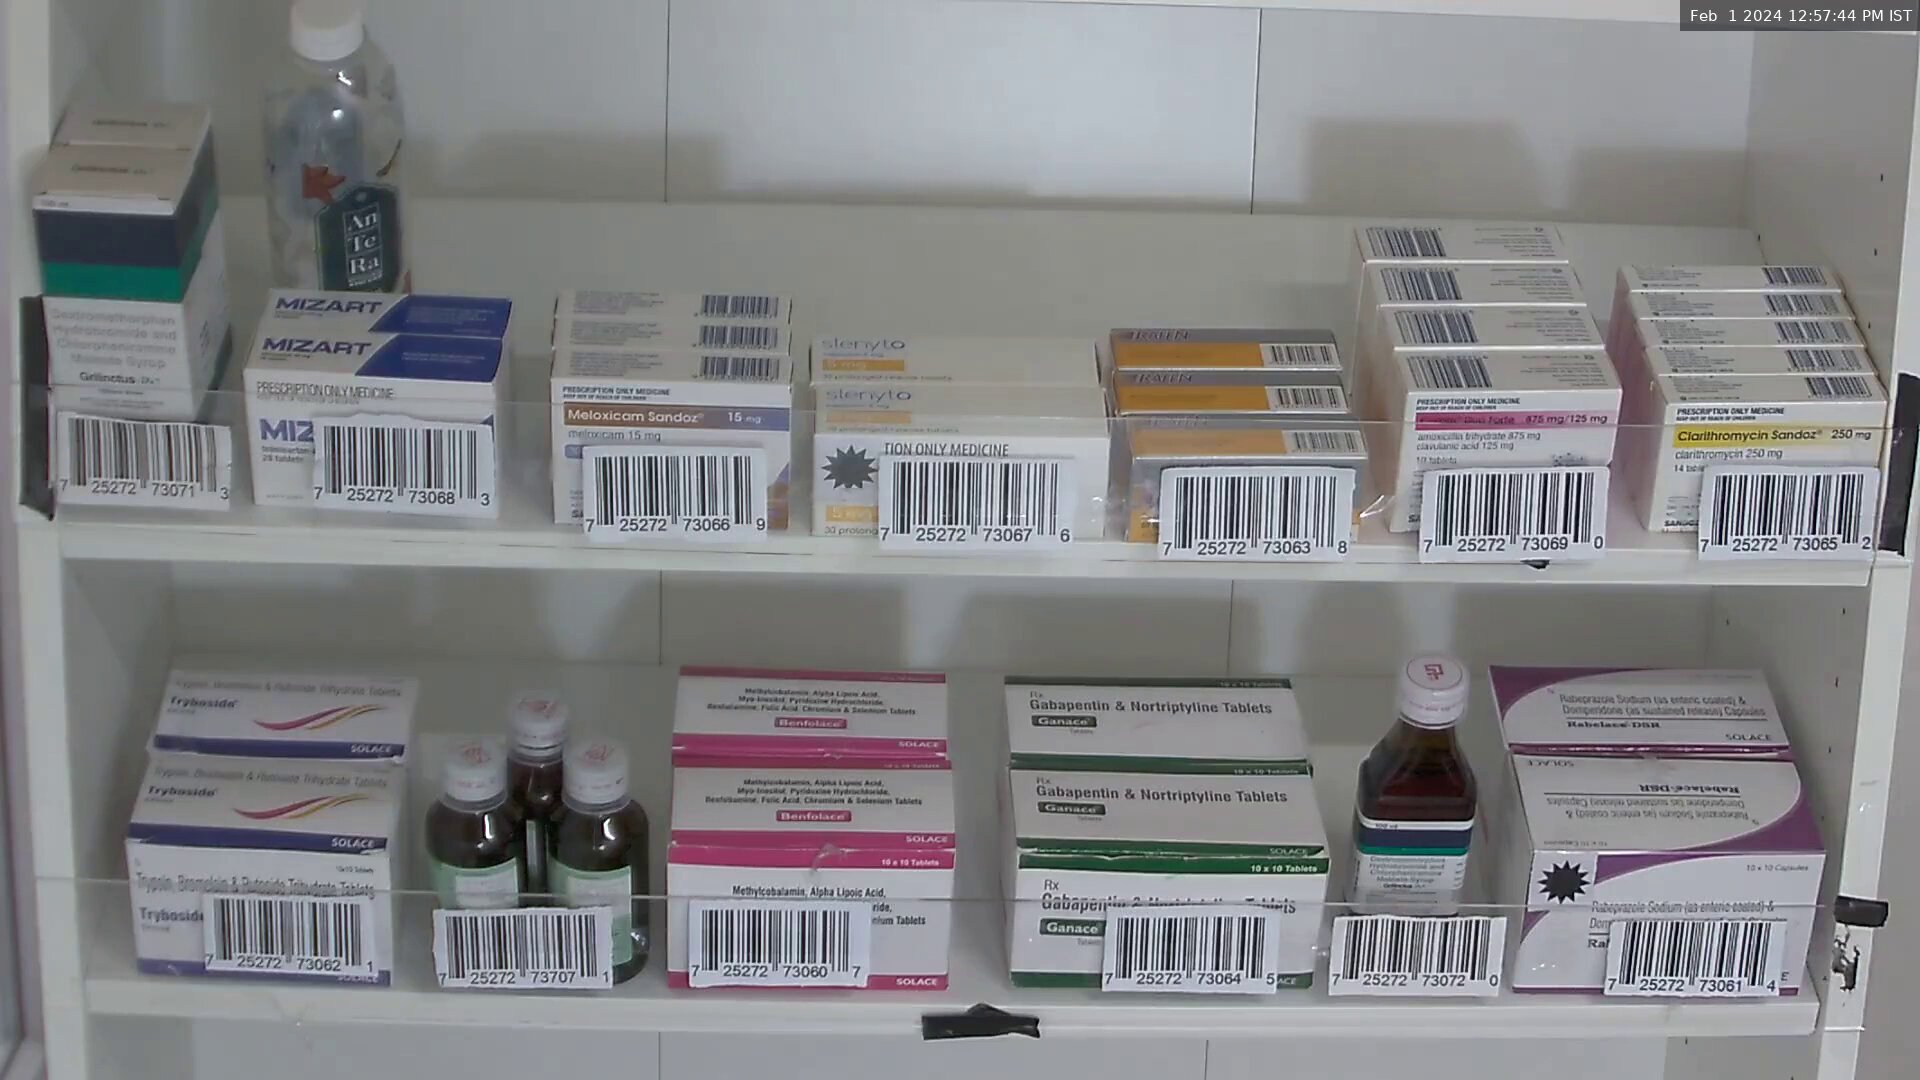barcode: (579, 444, 773, 538), (1422, 468, 1610, 560), (877, 459, 1071, 549), (310, 419, 495, 513), (1156, 469, 1352, 556), (1700, 465, 1876, 559), (200, 890, 375, 982), (51, 418, 235, 505), (1102, 909, 1276, 993), (690, 905, 865, 986), (1606, 920, 1785, 1000), (431, 907, 615, 984), (1325, 916, 1506, 993)
box-bottle: (40, 149, 206, 418), (51, 82, 215, 146)
cobj: (252, 3, 411, 284)
half: (1524, 849, 1600, 909), (818, 436, 886, 497)
mbox: (1509, 752, 1824, 994), (1009, 760, 1329, 996), (669, 753, 951, 988), (127, 752, 397, 985), (815, 384, 1108, 535), (244, 336, 504, 505), (1390, 349, 1625, 534), (551, 349, 793, 527), (1648, 372, 1888, 533), (1122, 417, 1367, 541), (150, 659, 411, 762), (1487, 665, 1785, 752), (665, 662, 949, 752), (1002, 675, 1305, 756), (807, 334, 1102, 384), (260, 285, 512, 336), (1113, 371, 1352, 414), (1105, 326, 1338, 367), (1361, 264, 1589, 303), (1378, 306, 1605, 345), (553, 286, 795, 322), (1350, 222, 1571, 260), (550, 319, 795, 353), (1630, 291, 1861, 320), (1635, 320, 1875, 345), (1646, 347, 1878, 372), (1617, 266, 1846, 291)
shelf: (33, 11, 1905, 568), (55, 556, 1840, 1015)
syrup: (1348, 646, 1481, 906), (559, 744, 657, 977), (425, 737, 514, 986), (500, 691, 582, 815)
tray: (36, 3, 800, 531), (800, 8, 1375, 560), (657, 572, 1331, 1006), (1374, 8, 1894, 564), (79, 563, 662, 984), (1329, 587, 1836, 1004)
